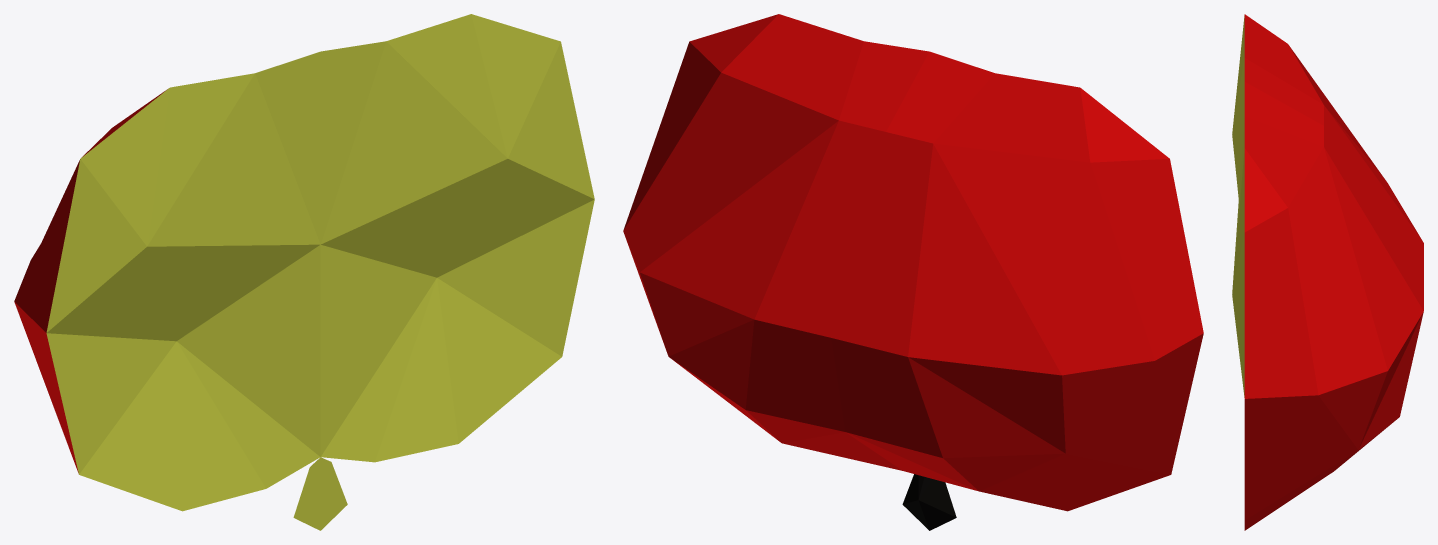
The model's file is appleFix.obj.
3 renders of one model, left to right at view 1: azimuth 30°, elevation 25°; view 2: azimuth 150°, elevation 25°; view 3: azimuth 270°, elevation 25°, orthographic. The views are drawn at different scales.
Visible parts, largest first — view 1: Plane; view 2: Plane; view 3: Plane.
Part boxes in pixels (x1,y1,x2,y2): Plane: (14,14,594,530); Plane: (623,14,1203,530); Plane: (1232,14,1423,530).
Size of the model in its own units: 2.9 by 2.43 by 0.9652.
